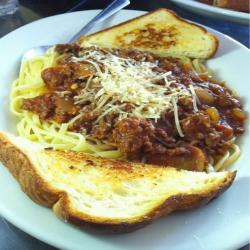bolonese_pasta: (26, 53, 233, 170)
bread: (11, 137, 237, 236), (70, 7, 223, 69)
